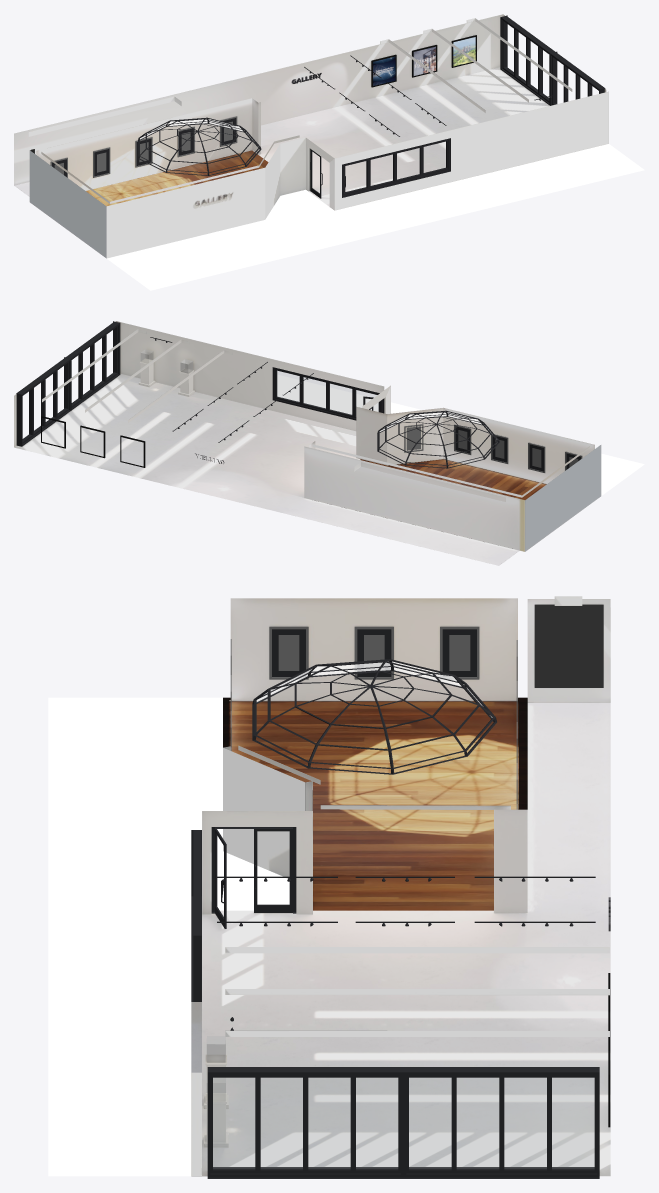
The model's file is art-gallery22.glb.
The picture shows the model from 3 angles, top to bottom: view 1: azimuth 30°, elevation 25°; view 2: azimuth 150°, elevation 25°; view 3: azimuth 270°, elevation 25°; orthographic projection. The views are drawn at different scales.
Parts seen in each view (by area): view 1: ParedesPrincipais, Paredes, Chao_entrada.001, Chao_entrada, Metais, Chao_madeira, Sphere.002, Todos os quadros, Quadros_entrada, p_DNA Project, p_Real Estate Project, p_Windland Project; view 2: Chao_entrada, ParedesPrincipais, Paredes, Metais, Chao_entrada.001, Chao_madeira, Todos os quadros, Sphere.002, Quadros_entrada; view 3: Chao_entrada, Chao_entrada.001, Metais, Chao_madeira, Paredes, ParedesPrincipais, Todos os quadros, Sphere.002.
Boxes of the visible parts, x1,y1,x2,y2 form: ParedesPrincipais: (14,14,608,210); Paredes: (29,98,334,258); Chao_entrada.001: (107,144,644,290); Chao_entrada: (14,67,549,206); Metais: (304,15,605,198); Chao_madeira: (86,150,268,206); Sphere.002: (138,117,261,175); Todos os quadros: (50,116,237,177); Quadros_entrada: (371,35,476,87); p_DNA Project: (373,56,395,85); p_Real Estate Project: (413,46,435,75); p_Windland Project: (453,37,475,66); Chao_entrada: (14,374,519,565); ParedesPrincipais: (14,321,524,551); Paredes: (309,385,601,551); Metais: (16,321,384,446); Chao_entrada.001: (277,374,644,495); Chao_madeira: (360,459,546,499); Todos os quadros: (404,424,582,472); Sphere.002: (377,410,499,468); Quadros_entrada: (41,416,145,467); Chao_entrada: (191,702,610,1176); Chao_entrada.001: (48,697,289,1176); Metais: (191,827,599,1178); Chao_madeira: (223,697,527,910); Paredes: (223,598,517,878); ParedesPrincipais: (191,596,610,1175); Todos os quadros: (230,604,603,809); Sphere.002: (252,659,496,774).
Size of the model in its own units: 62.24 by 8.29 by 30.8.
Materials: 18 (9 with a texture image).
